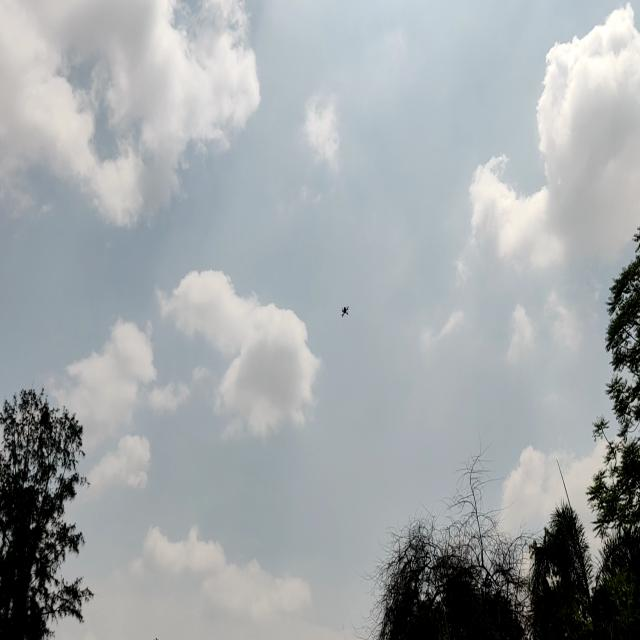drone: (338, 298, 354, 324)
